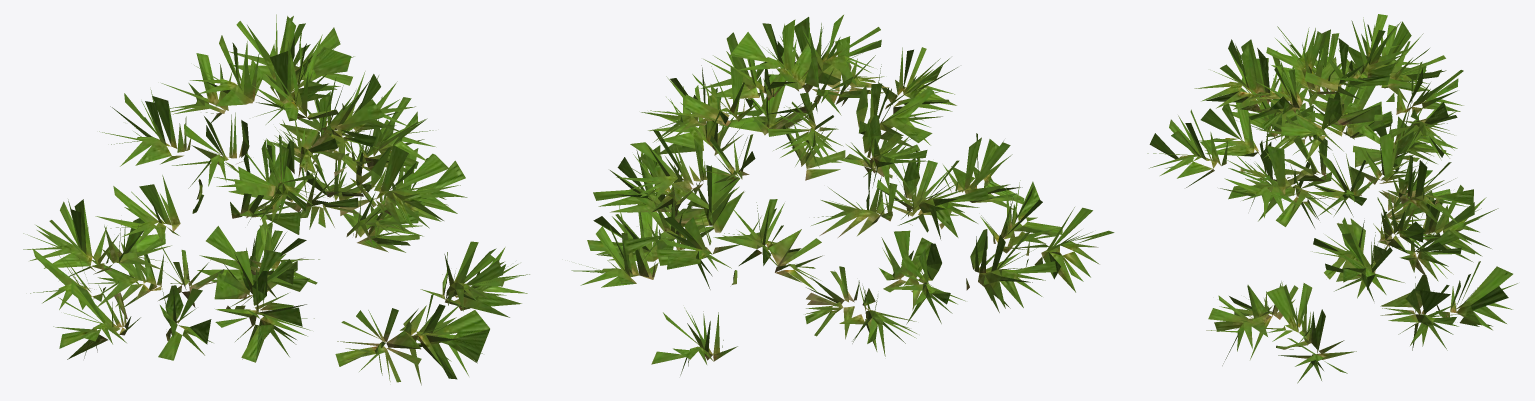
The model's file is leaf_sp.glb.
3 views of the same model, side by side, from view 1: azimuth 30°, elevation 25°; view 2: azimuth 150°, elevation 25°; view 3: azimuth 270°, elevation 25° (orthographic). The views are drawn at different scales.
Parts seen in each view (by area): view 1: geometry_0; view 2: geometry_0; view 3: geometry_0.
Boxes of the visible parts, box(x1,y1,x2,y2) form: geometry_0: box(23, 14, 529, 385); geometry_0: box(571, 15, 1114, 375); geometry_0: box(1147, 14, 1517, 383).
Size of the model in its own units: 0.393 by 0.2366 by 0.2855.
1 material, 1 textured.
